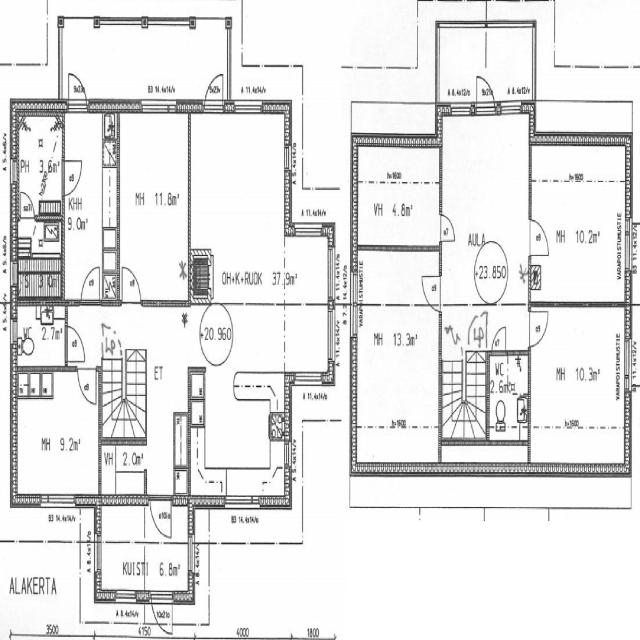door: (526, 214, 552, 260), (148, 494, 174, 540), (526, 304, 552, 346), (150, 592, 174, 636), (66, 67, 89, 112), (202, 68, 225, 113), (120, 261, 143, 305), (76, 364, 99, 407), (466, 309, 489, 350), (61, 156, 84, 196), (80, 263, 102, 303), (474, 72, 496, 112), (420, 271, 442, 311), (65, 322, 86, 363), (437, 209, 458, 242), (489, 322, 508, 356), (18, 187, 36, 219)
window: (139, 96, 176, 117), (223, 491, 260, 511), (349, 267, 360, 334), (232, 96, 266, 117), (43, 489, 78, 509), (622, 334, 634, 390), (325, 304, 336, 364), (293, 219, 325, 239), (325, 243, 336, 300), (292, 368, 326, 386), (624, 218, 634, 272), (496, 98, 525, 116), (447, 100, 475, 117), (112, 588, 138, 606), (94, 532, 104, 574), (283, 140, 293, 178), (187, 534, 196, 574), (10, 152, 18, 186), (10, 255, 18, 289), (10, 310, 18, 343), (286, 435, 294, 468)
zone: (190, 106, 285, 301), (358, 248, 440, 466), (442, 110, 530, 304), (529, 136, 630, 304), (528, 302, 630, 466), (114, 108, 190, 302), (191, 371, 289, 500), (12, 369, 100, 500), (59, 109, 114, 305), (354, 141, 441, 249), (285, 232, 331, 374), (15, 116, 64, 216), (101, 502, 147, 598), (487, 350, 530, 444), (15, 214, 62, 299), (13, 300, 67, 368), (100, 439, 147, 503), (145, 541, 192, 598), (149, 497, 175, 538), (420, 270, 443, 311)
